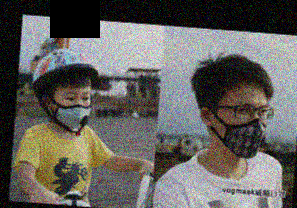with_mask: (211, 98, 269, 159), (52, 88, 92, 130)
